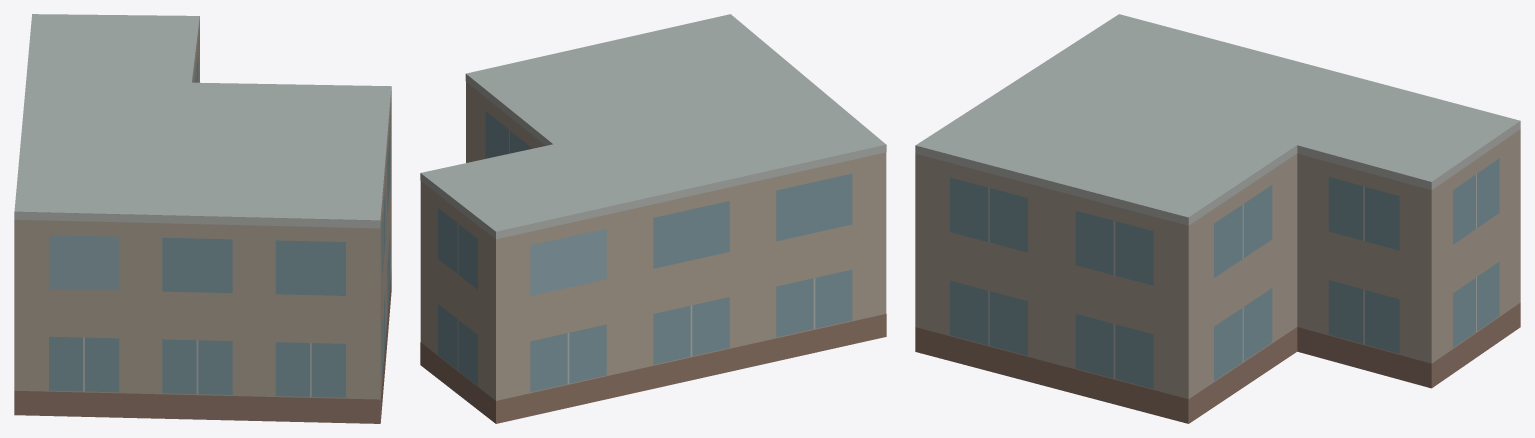
The model's file is survey-upis-32934439.glb.
The picture shows the model from 3 angles, left to right: view 1: azimuth 30°, elevation 25°; view 2: azimuth 150°, elevation 25°; view 3: azimuth 270°, elevation 25°; orthographic projection. The views are drawn at different scales.
Visible parts, largest first — view 1: survey-upis-32934439.tmp; view 2: survey-upis-32934439.tmp; view 3: survey-upis-32934439.tmp.
Part boxes in pixels (x1,y1,x2,y2): survey-upis-32934439.tmp: (14,14,391,423); survey-upis-32934439.tmp: (420,14,886,423); survey-upis-32934439.tmp: (915,14,1520,423).
Size of the model in its own units: 12.91 by 6.1 by 16.23.
